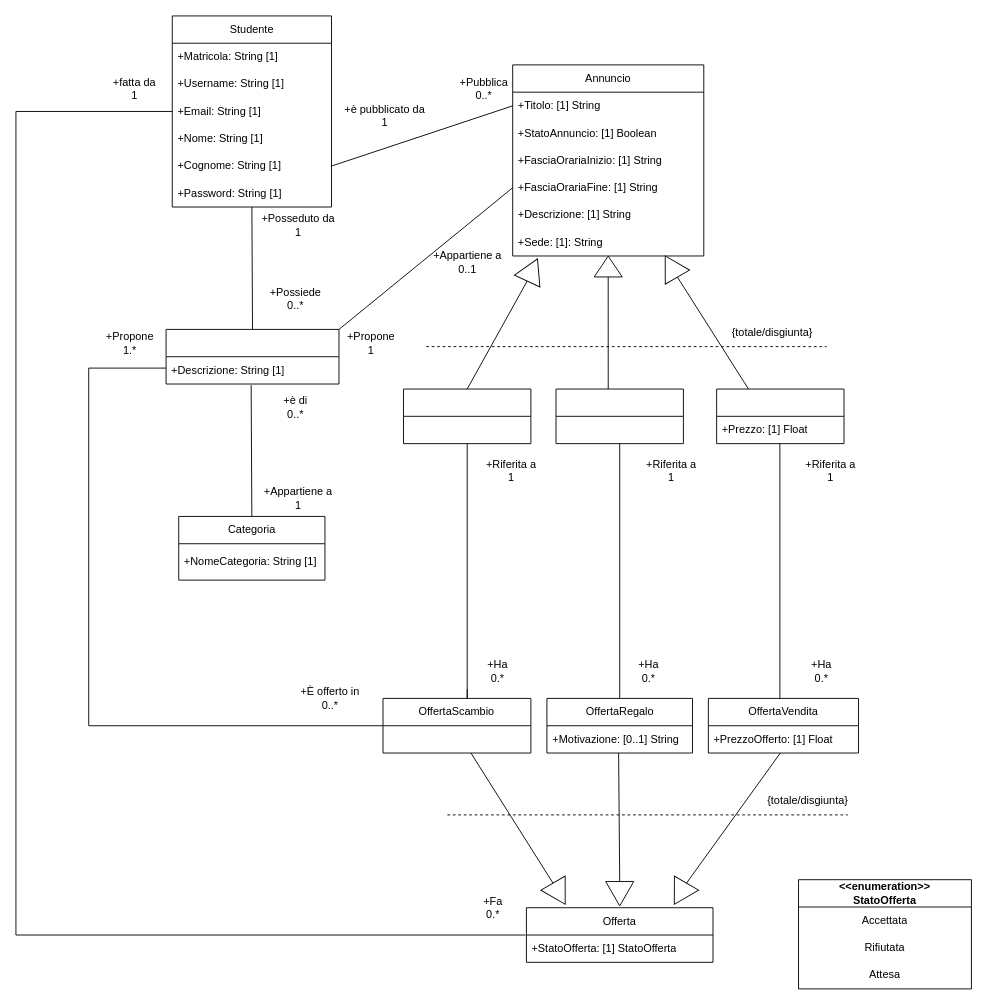
The diagram is 987 pixels wide and 1006 high, and some of its shapes have lost their labels. The shapes that lost their labels are listed below. From the top down, each one's box as (x1, y1, x2, y2) in pixels, then its label:
(165, 329, 339, 384): Oggetto
(403, 388, 531, 444): AnnuncioScambio
(555, 388, 683, 444): AnnuncioRegalo
(716, 388, 844, 444): AnnuncioVendita
